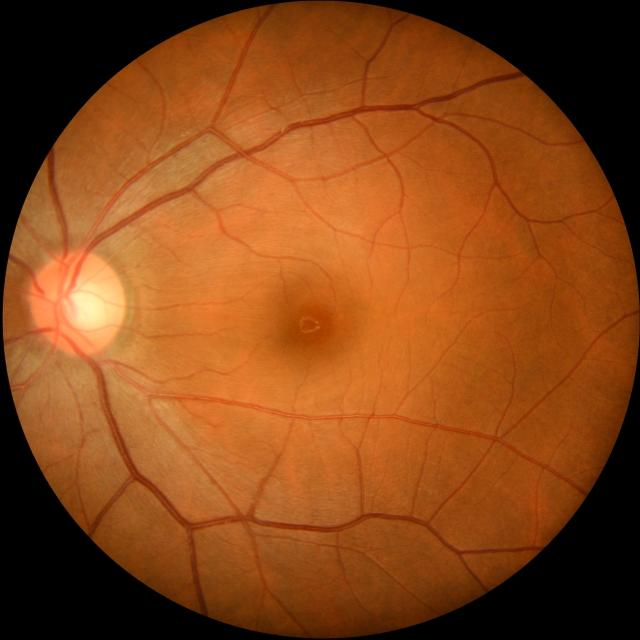OC: (55, 279, 108, 333)
OD: (29, 250, 122, 353)
